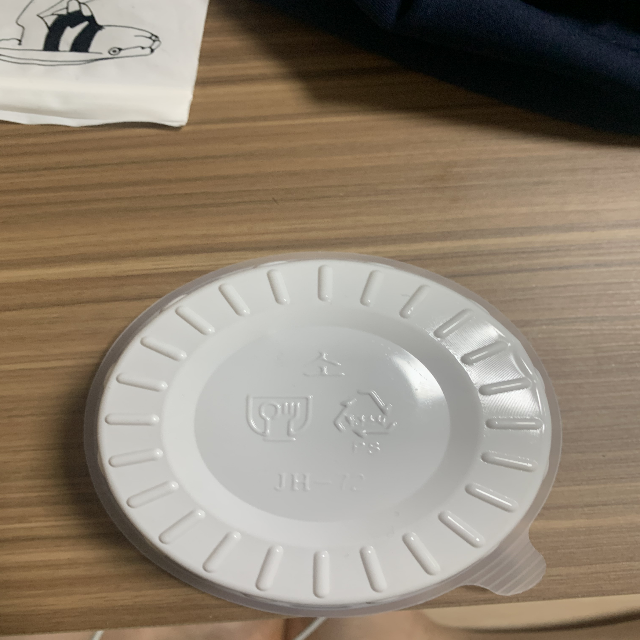ps: (332, 382, 401, 458)
